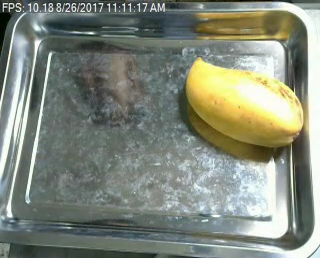Mango: (180, 51, 312, 150)
